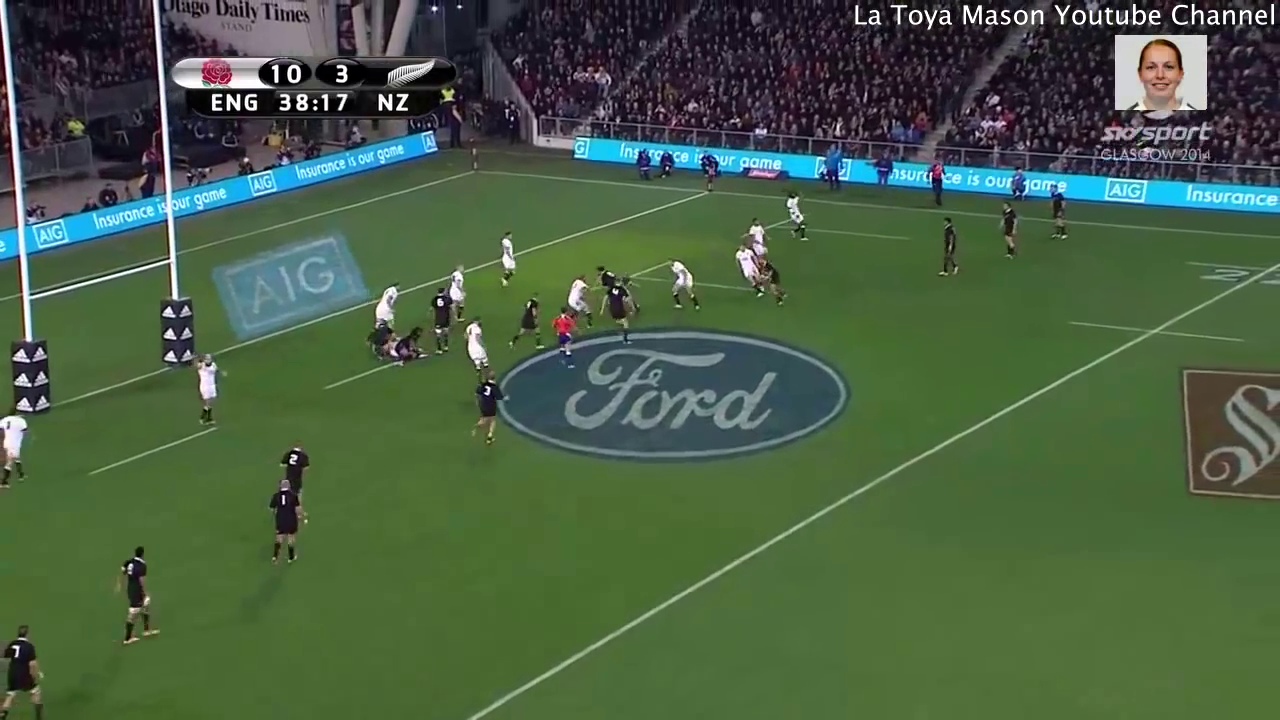player: (109, 541, 163, 647), (1, 620, 44, 720), (264, 479, 307, 573), (274, 433, 313, 525), (188, 352, 229, 429), (469, 367, 507, 448), (1, 406, 33, 495), (506, 287, 548, 354), (660, 256, 705, 316), (601, 278, 637, 348), (933, 216, 966, 284), (729, 243, 769, 296), (993, 201, 1025, 264), (431, 284, 458, 358), (779, 189, 815, 242), (463, 314, 495, 373), (565, 269, 591, 336), (551, 306, 579, 367), (759, 254, 789, 310), (445, 261, 470, 325), (370, 278, 403, 326), (395, 322, 428, 366), (1047, 180, 1070, 242), (744, 217, 776, 260), (497, 230, 519, 289), (363, 327, 397, 362), (590, 264, 619, 294)
post: (1, 73, 208, 424)
